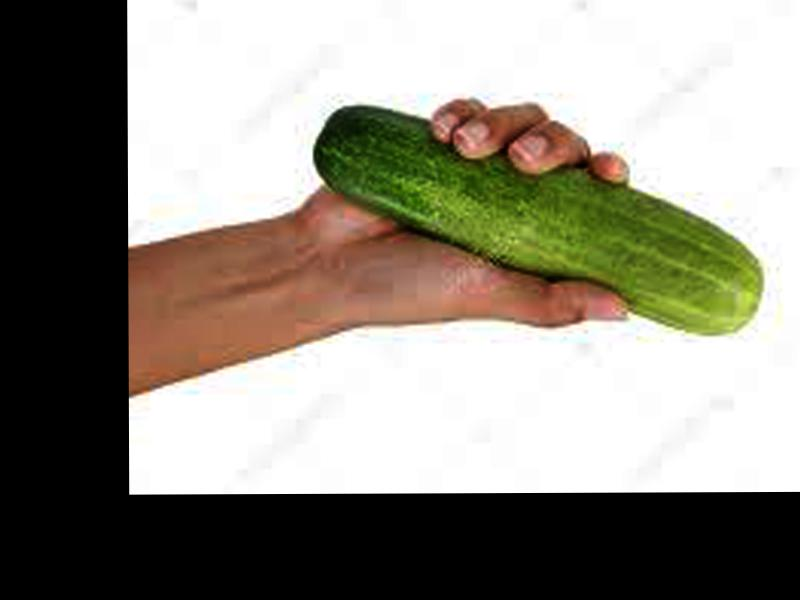Cucumber: (312, 107, 760, 340)
